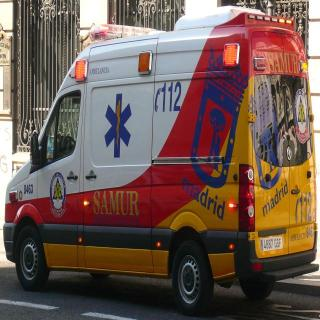Ambulance: (5, 12, 318, 290)
